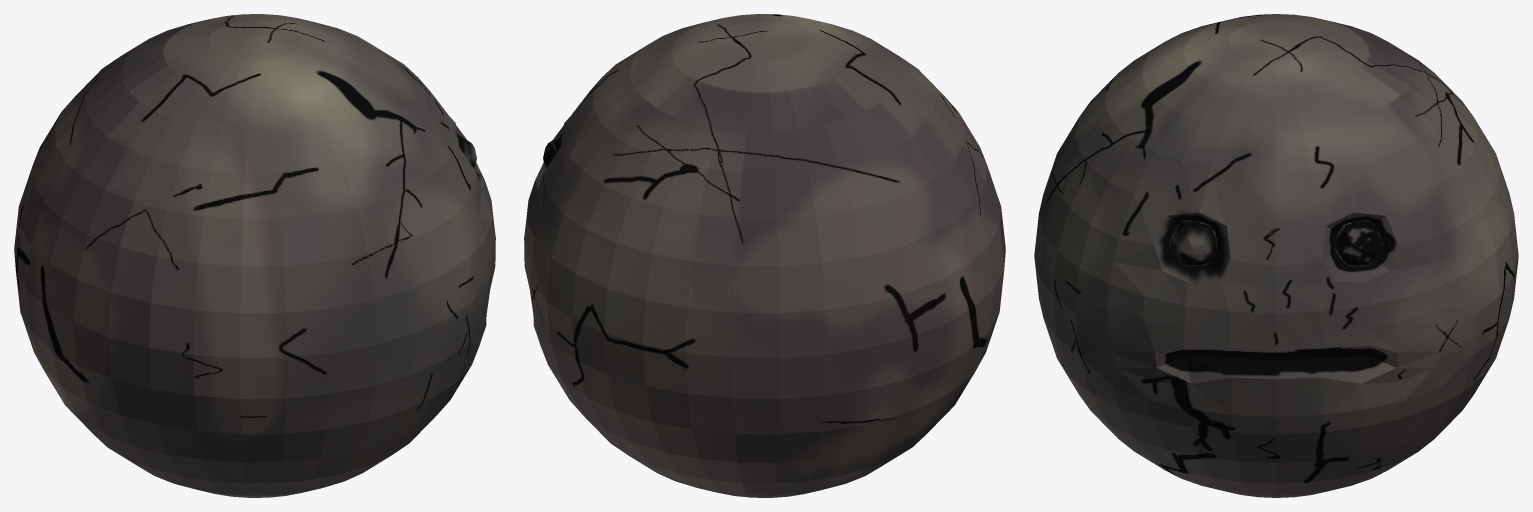
Rendered from katuns.dae.
3 renders of one model, left to right at view 1: azimuth 30°, elevation 25°; view 2: azimuth 150°, elevation 25°; view 3: azimuth 270°, elevation 25°, orthographic.
Visible parts, largest first — view 1: Сфера; view 2: Сфера; view 3: Сфера.
Boxes of the visible parts, <box> form: Сфера: <box>14,14,495,497</box>; Сфера: <box>524,14,1005,497</box>; Сфера: <box>1034,14,1518,497</box>.
Size of the model in its own units: 2 by 2 by 2.
1 material, 1 textured.
